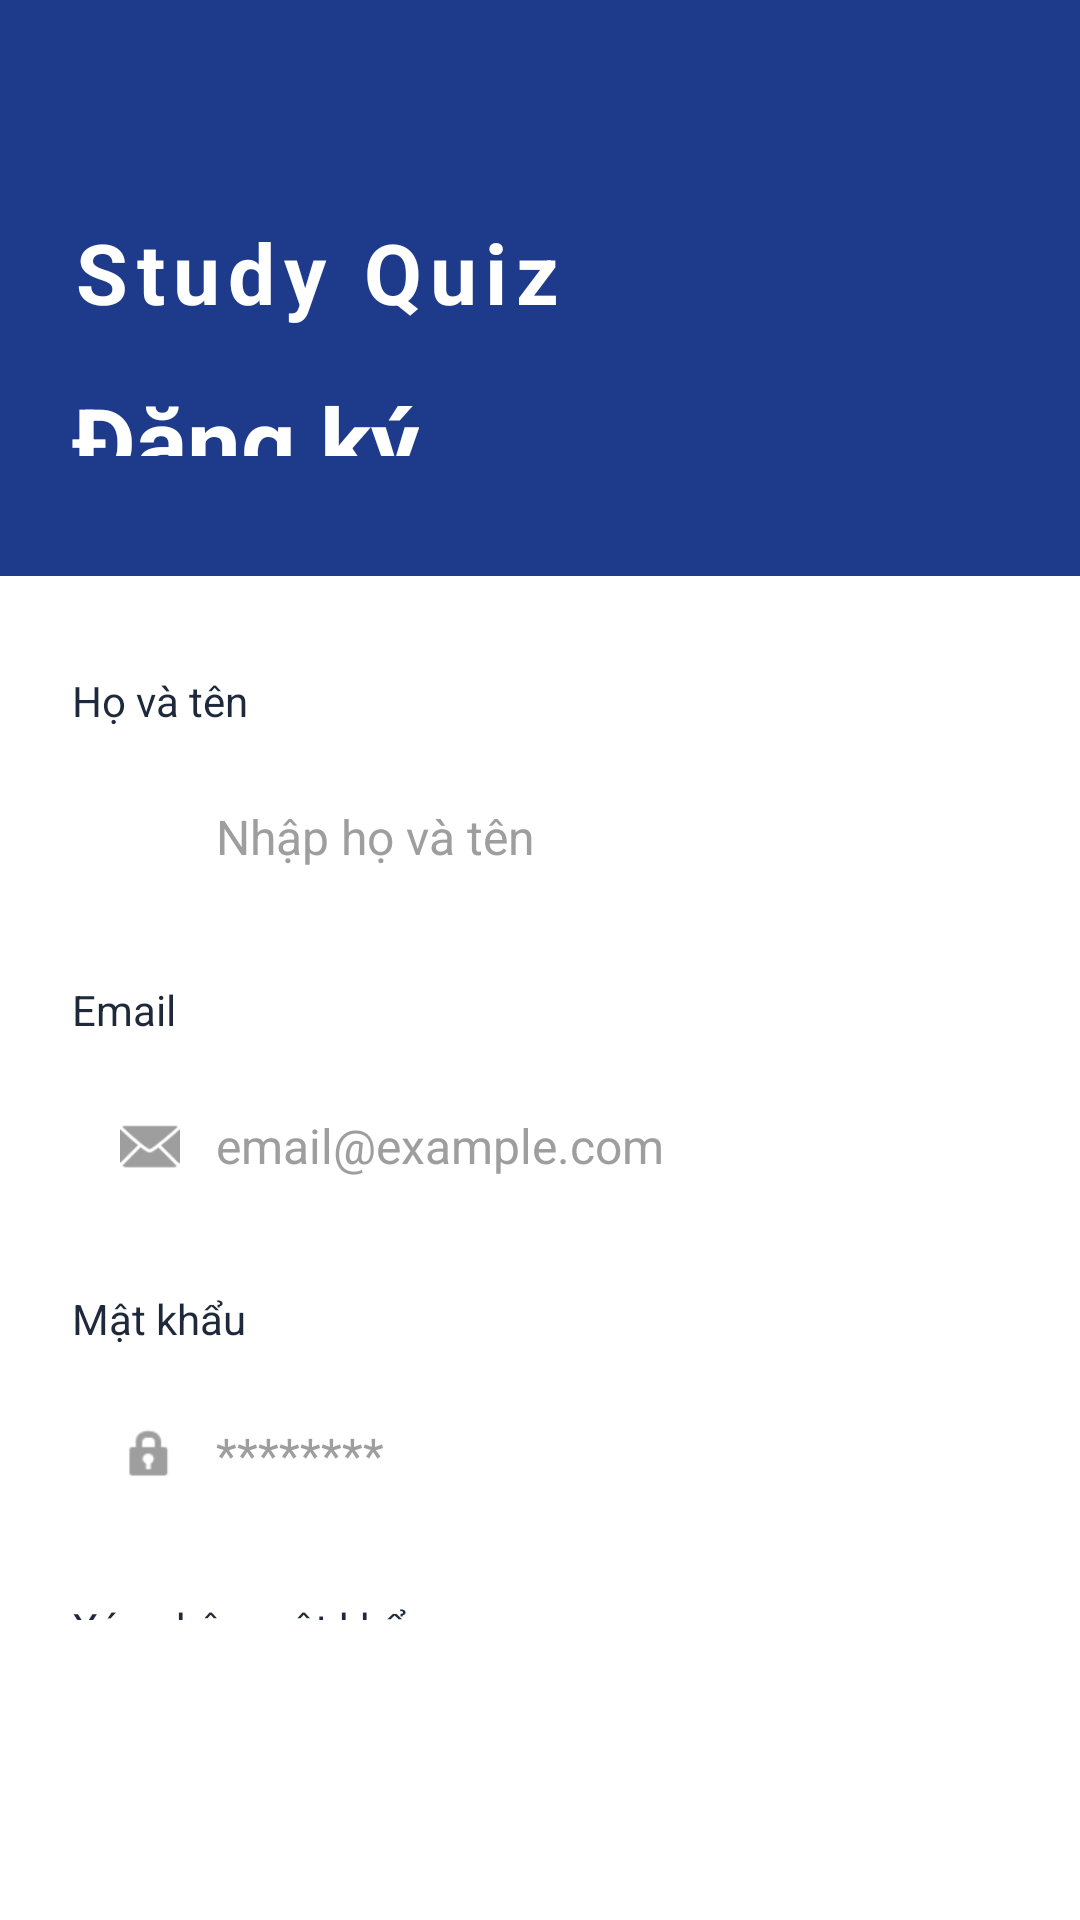

Icon click points for this 1080px x 1920px phone screenshot, format [x,y]:
lock idle: [148,1453]
